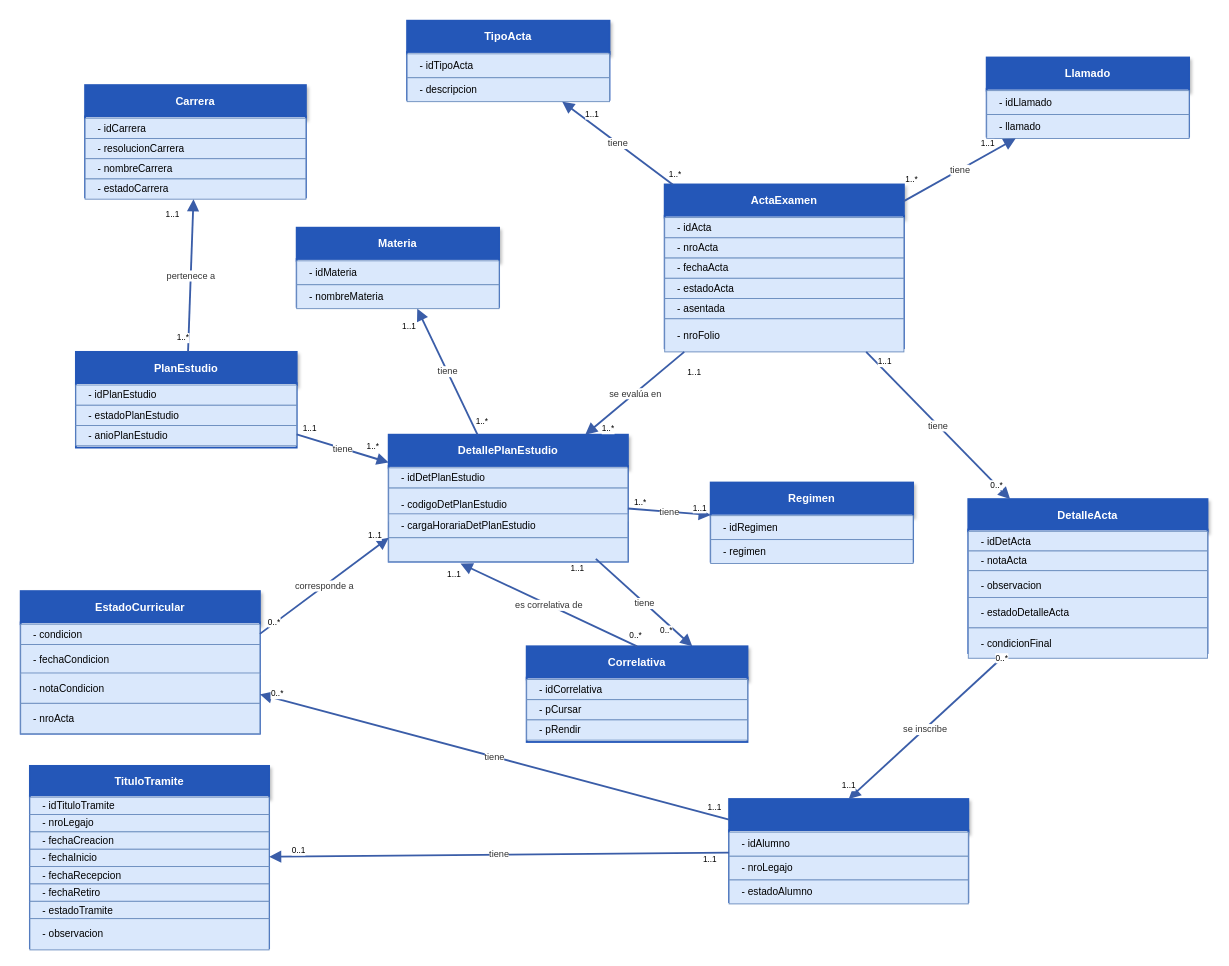
The diagram is 1229 pixels wide and 966 high, and some of its shapes have lost their labels. Each missing label, with the centre of its shape:
"- anioCursoDetPlanEstudio" goes at point (508, 549).
"Alumno" goes at point (849, 816).
